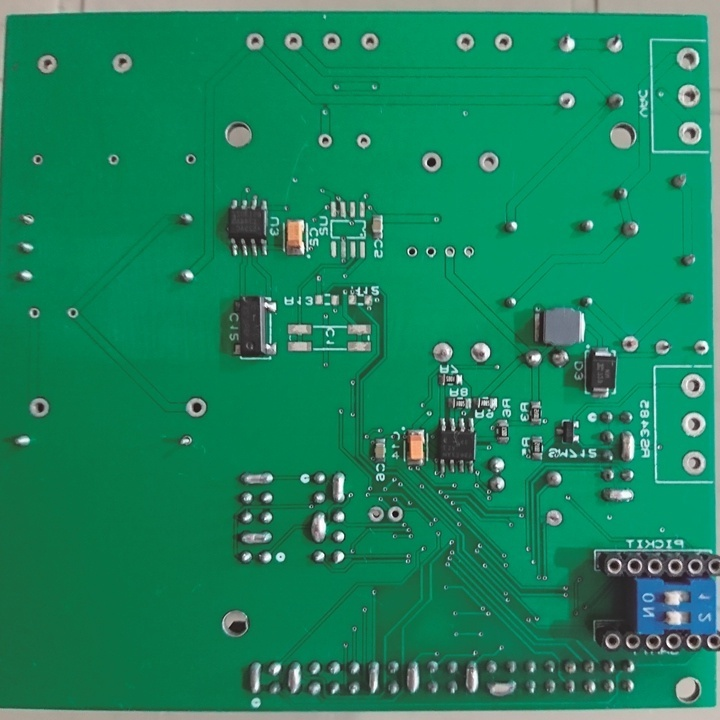F: (681, 447, 707, 480), (679, 372, 705, 400), (680, 411, 706, 439), (679, 117, 704, 146), (675, 45, 701, 72), (25, 395, 53, 420), (677, 80, 702, 108), (183, 395, 209, 420), (420, 148, 444, 175), (467, 340, 493, 364), (430, 337, 453, 364), (110, 52, 136, 75), (478, 149, 501, 175), (493, 31, 515, 56), (36, 52, 59, 75), (556, 31, 577, 55), (358, 30, 380, 52), (282, 31, 304, 52), (454, 32, 476, 53), (557, 90, 578, 112), (244, 33, 267, 53), (545, 509, 565, 530), (321, 32, 342, 52), (606, 33, 624, 56), (385, 504, 404, 524), (622, 334, 641, 354), (367, 506, 384, 525), (19, 212, 38, 229), (693, 338, 709, 358), (317, 132, 335, 149), (355, 132, 371, 150), (178, 432, 193, 450), (653, 337, 668, 355), (404, 243, 418, 260), (424, 245, 439, 260), (184, 151, 197, 168), (27, 306, 41, 321), (30, 152, 44, 167), (444, 243, 456, 260), (461, 243, 474, 258), (107, 153, 120, 167), (67, 306, 79, 319)
P: (236, 470, 276, 489), (463, 657, 480, 698), (484, 678, 517, 698), (284, 659, 302, 695), (406, 658, 422, 698), (620, 429, 637, 466), (329, 469, 346, 505), (364, 658, 379, 696), (308, 512, 326, 543), (602, 487, 636, 503), (239, 530, 273, 545), (248, 659, 262, 695)
